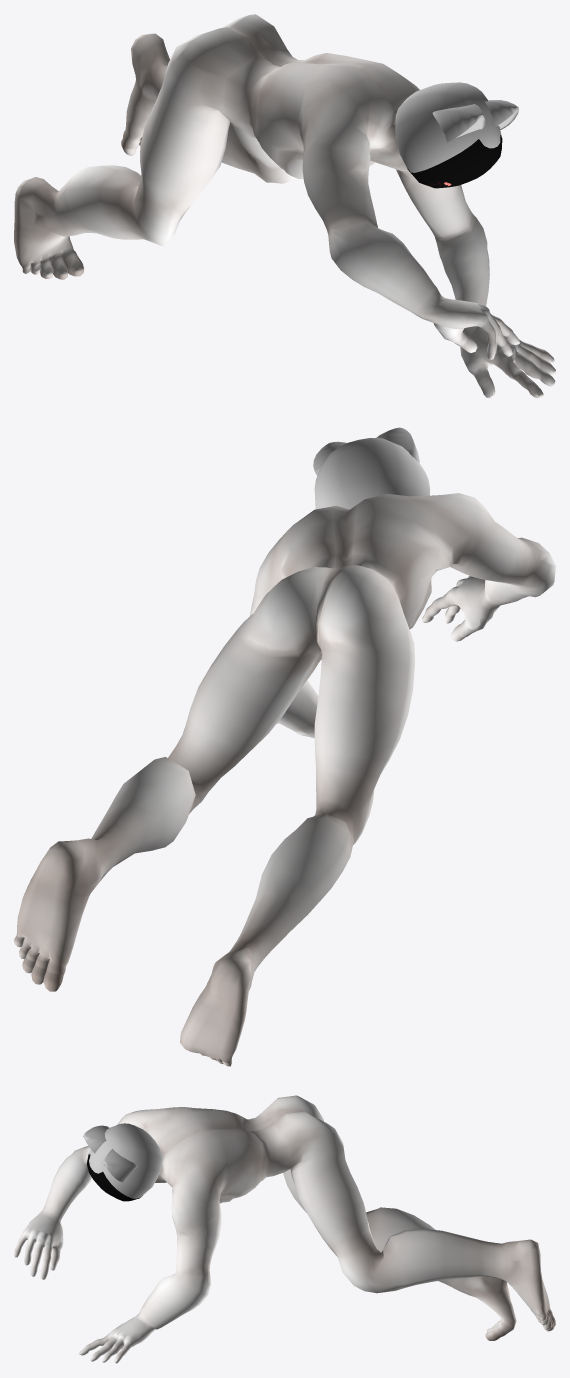
3 renders of one model, top to bottom at view 1: azimuth 30°, elevation 25°; view 2: azimuth 150°, elevation 25°; view 3: azimuth 270°, elevation 25°, orthographic. The views are drawn at different scales.
Parts seen in each view (by area): view 1: Muscle_Body, Cat_Head, ______?001; view 2: Muscle_Body, Cat_Head; view 3: Muscle_Body, Cat_Head, ______?001.
Part boxes in pixels (<box>): Muscle_Body: <box>14,14,555,398</box>; Cat_Head: <box>395,82,518,172</box>; ______?001: <box>407,135,502,188</box>; Muscle_Body: <box>14,493,555,1066</box>; Cat_Head: <box>313,427,429,509</box>; Muscle_Body: <box>14,1095,555,1363</box>; Cat_Head: <box>83,1123,162,1198</box>; ______?001: <box>86,1154,142,1201</box>.
Bounding box in the file's own units: 11.39 × 14.68 × 29.16.
